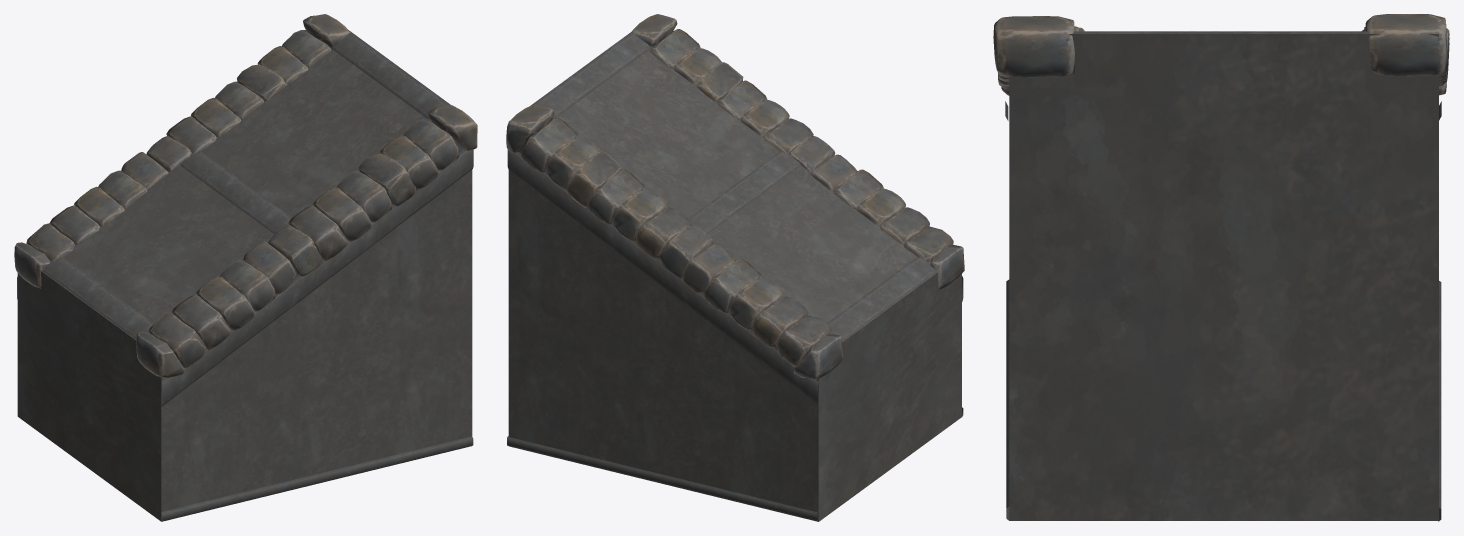
The model's file is Section03.fbx.
3 renders of one model, left to right at view 1: azimuth 30°, elevation 25°; view 2: azimuth 150°, elevation 25°; view 3: azimuth 270°, elevation 25°, orthographic. The views are drawn at different scales.
Visible parts, largest first — view 1: Box039; view 2: Box039; view 3: Box039.
Boxes of the visible parts, left/top/right/bottom form: Box039: left=14, top=14, right=477, bottom=521; Box039: left=506, top=14, right=964, bottom=521; Box039: left=993, top=14, right=1449, bottom=521.
Bounding box in the file's own units: 510 × 504 × 425.
